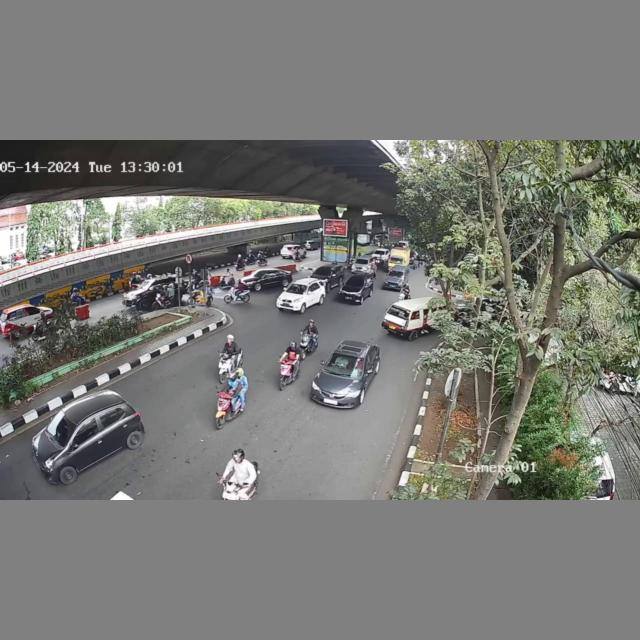windshield: (323, 352, 363, 378), (288, 281, 308, 293)
